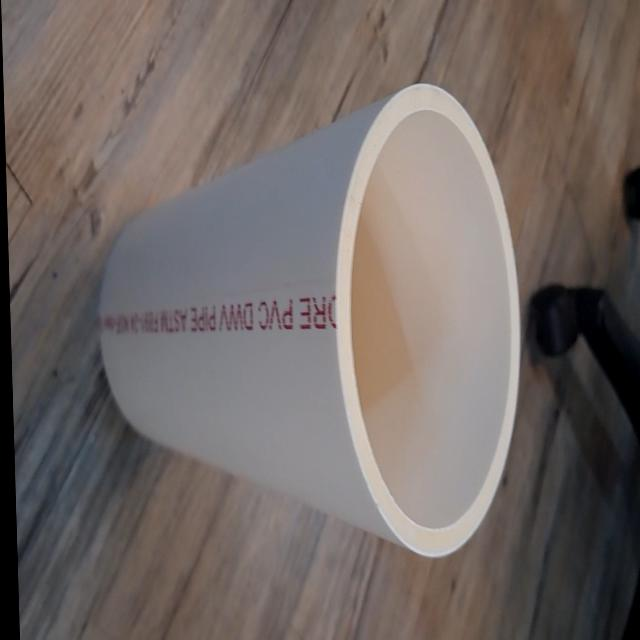CORAL: (90, 78, 535, 570)
